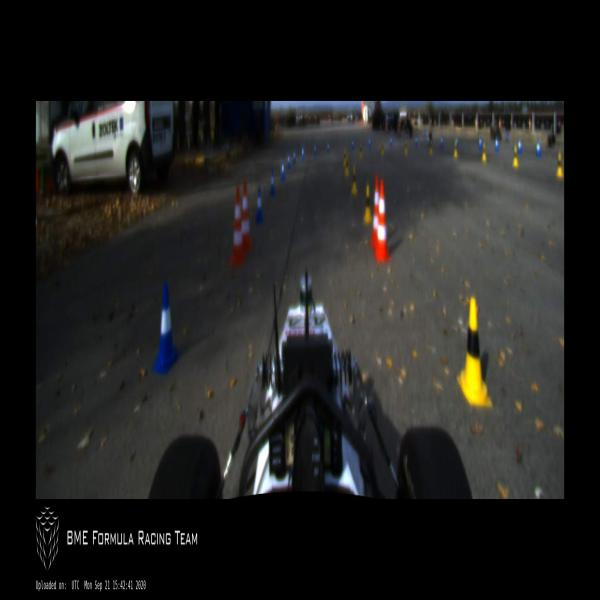blue_cone: (150, 281, 180, 377), (255, 188, 263, 222), (270, 167, 276, 196), (494, 134, 500, 153), (280, 157, 285, 179), (478, 134, 483, 152), (536, 138, 541, 156), (518, 137, 523, 154), (287, 151, 290, 169), (293, 148, 296, 164), (327, 139, 330, 153), (314, 142, 317, 155), (302, 144, 304, 160), (352, 137, 354, 150), (441, 135, 443, 148), (390, 135, 392, 147), (415, 135, 417, 146), (369, 136, 371, 146)
large_orange_cone: (375, 181, 390, 260), (229, 186, 243, 267), (239, 180, 252, 252), (371, 172, 380, 248)
yellow_cone: (458, 296, 490, 410), (363, 184, 372, 227), (350, 168, 358, 194), (556, 151, 563, 176), (481, 140, 487, 161), (513, 144, 518, 168), (345, 155, 349, 177), (359, 141, 363, 160), (428, 137, 432, 154), (454, 140, 458, 157), (343, 147, 346, 167), (381, 140, 384, 156), (404, 138, 407, 153)
